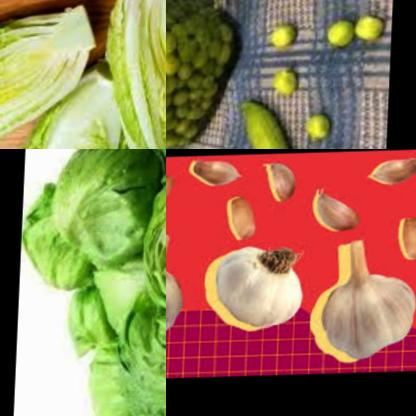garlic: (307, 240, 416, 369), (207, 239, 312, 335), (166, 225, 192, 351), (305, 189, 368, 240), (222, 192, 264, 246), (186, 156, 245, 191), (259, 159, 301, 208), (367, 153, 416, 191), (395, 207, 416, 269), (166, 169, 176, 216)
peas: (166, 0, 232, 149), (227, 99, 316, 149), (322, 10, 384, 53), (266, 64, 306, 103), (301, 112, 332, 146), (239, 0, 290, 15), (273, 25, 295, 56)
salad: (0, 0, 102, 149), (46, 149, 158, 263), (0, 62, 140, 149), (100, 0, 166, 149), (20, 187, 101, 293), (112, 287, 166, 416), (84, 255, 161, 334), (60, 280, 119, 362), (137, 154, 166, 311), (83, 343, 134, 416)
